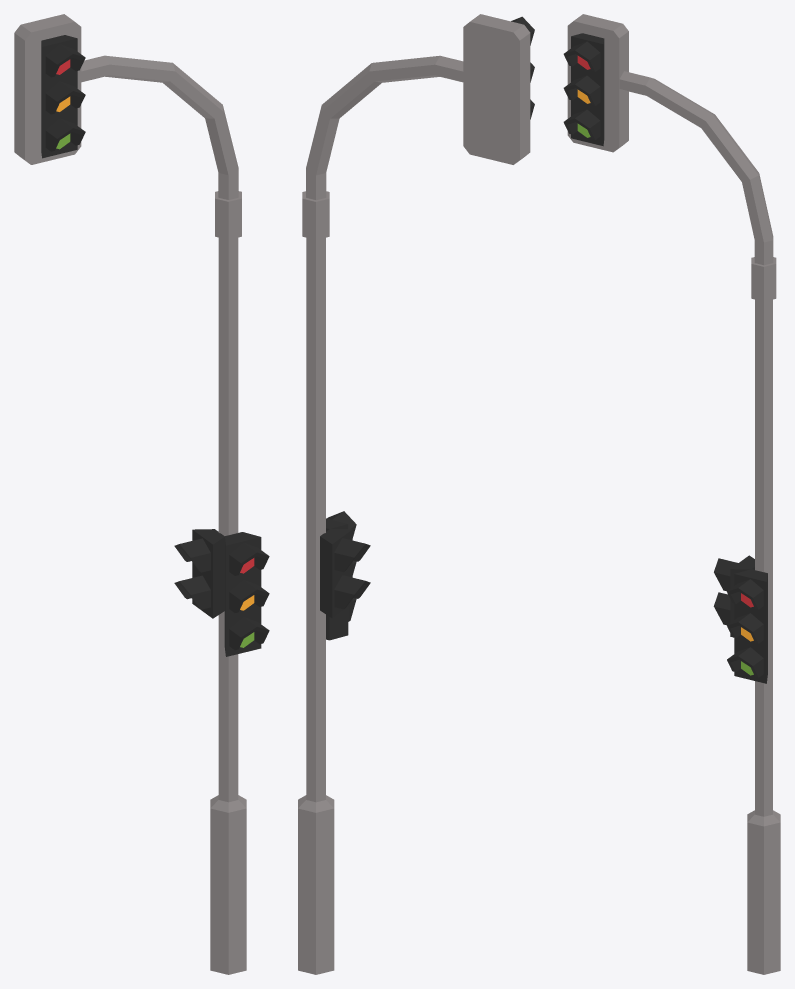
The model's file is traffic-lights.glb.
The picture shows the model from 3 angles, left to right: view 1: azimuth 30°, elevation 25°; view 2: azimuth 150°, elevation 25°; view 3: azimuth 330°, elevation 25°; orthographic projection. The views are drawn at different scales.
Visible parts, largest first — view 1: traffic-lights; view 2: traffic-lights; view 3: traffic-lights.
Boxes of the visible parts, box(x1,y1,x2,y2) form: traffic-lights: box(14, 14, 269, 974); traffic-lights: box(298, 14, 534, 974); traffic-lights: box(563, 14, 780, 974).
Size of the model in its own units: 2.2 by 9.13 by 0.6424.
Materials: 1 (1 with a texture image).
